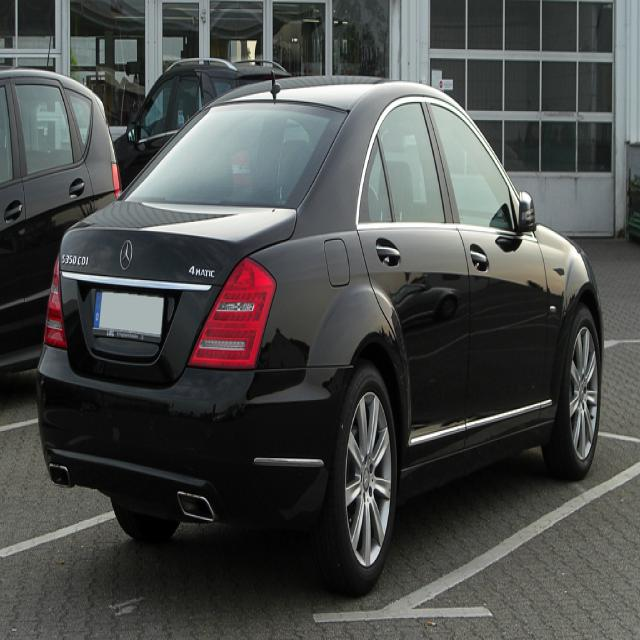car: (45, 70, 606, 578)
